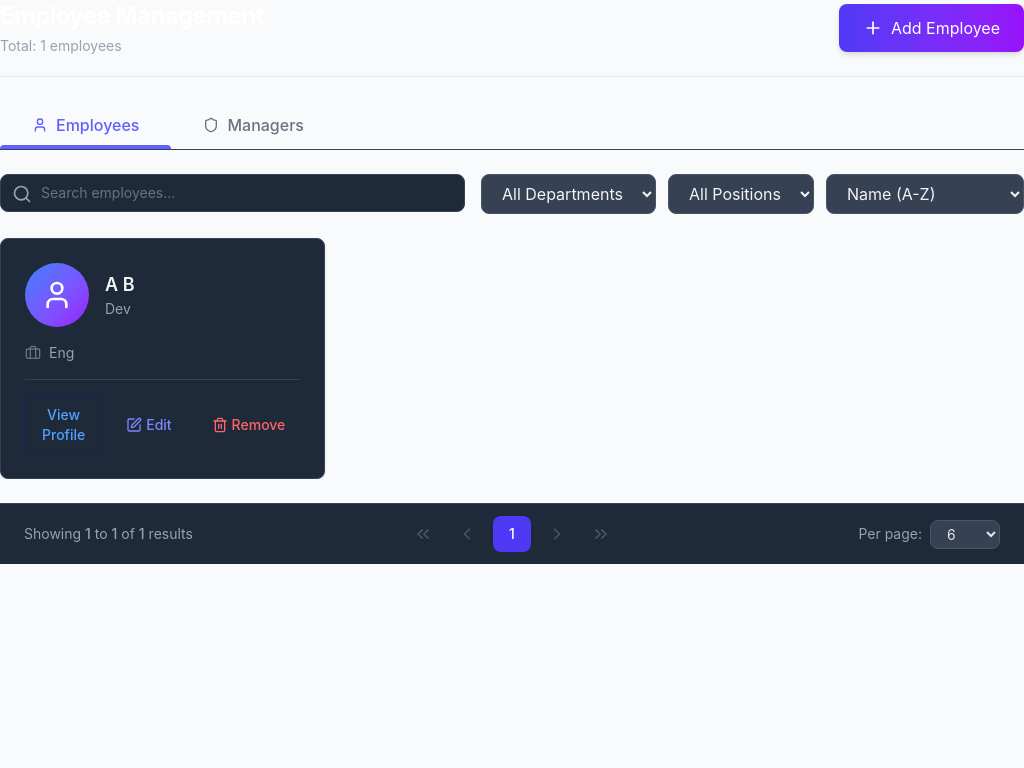
Scenario: EmployeesPage dedicated › creates employee through no-skills branch and shows success modal
Click the button "Add Employee" at (931, 28), box [839,4,1023,52]
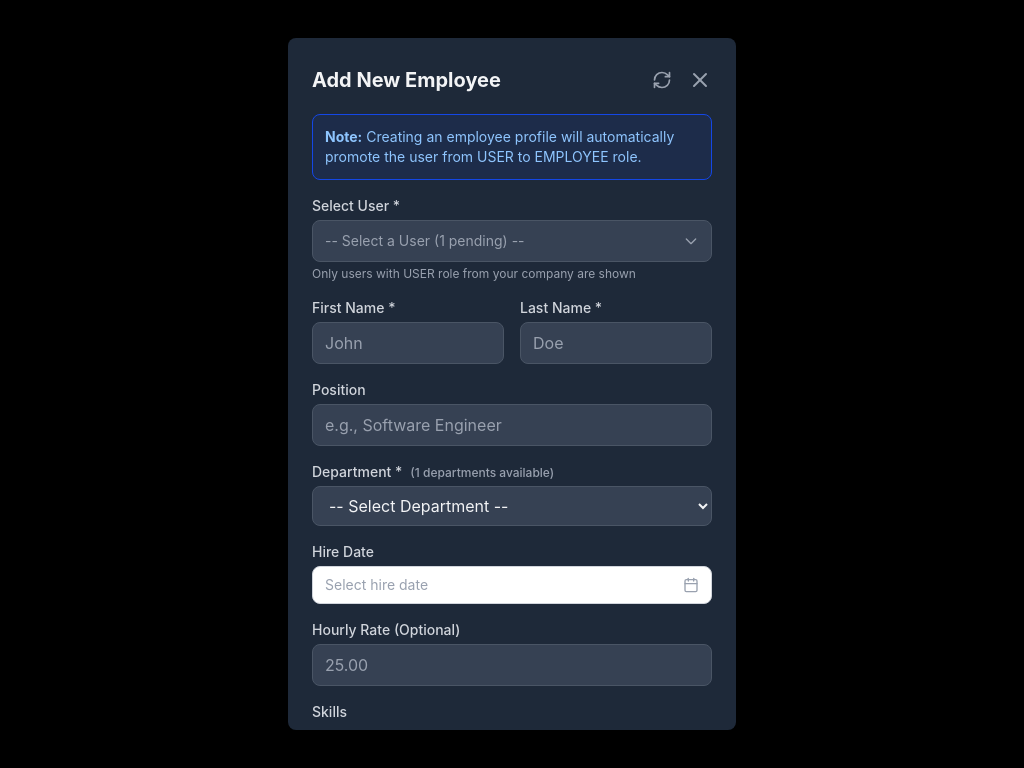
Note: Click the custom user dropdown trigger and select the user option
Click the button "-- Select a User (1 pending) --" at (512, 241), box [312,220,712,262]
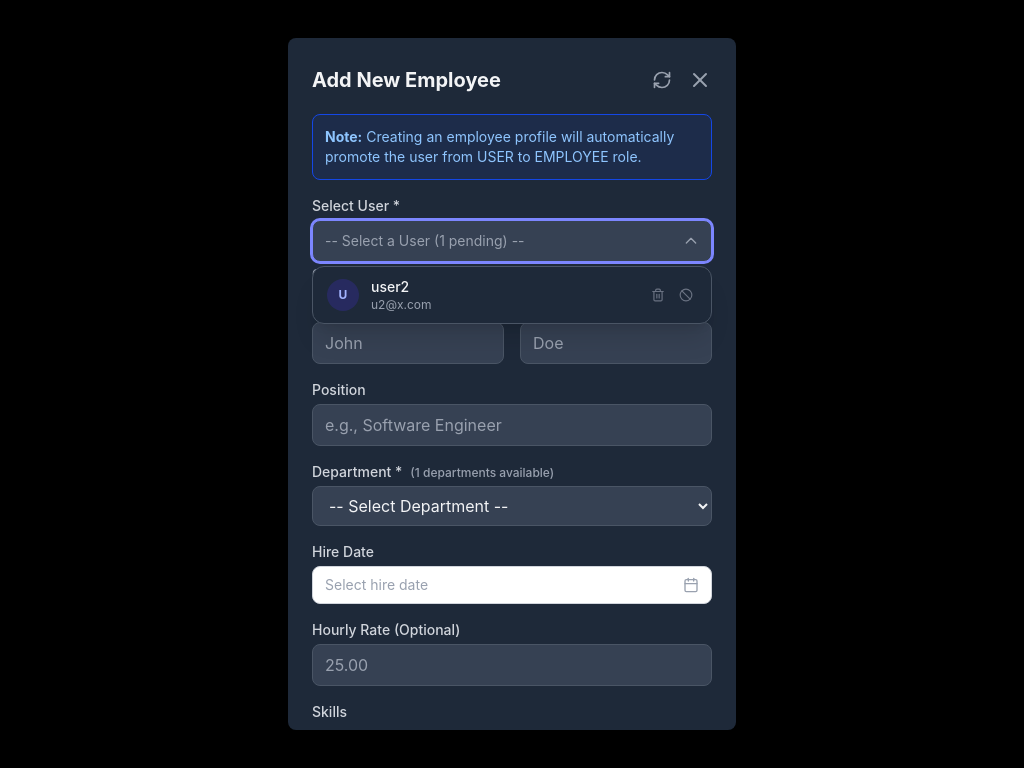
Click the text "user2" at (390, 287), box [371,278,409,295]
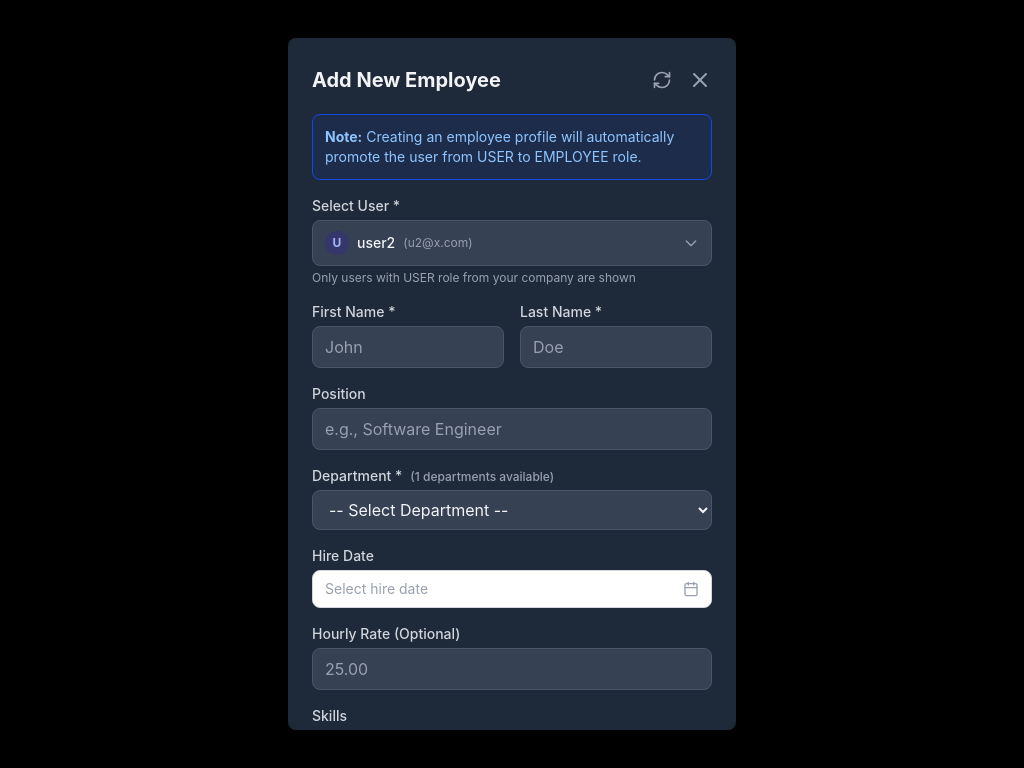
Type "No" into the field with placeholder "John" at (408, 347), box [312,326,504,368]
Type "Skill" into the field with placeholder "Doe" at (616, 347), box [520,326,712,368]
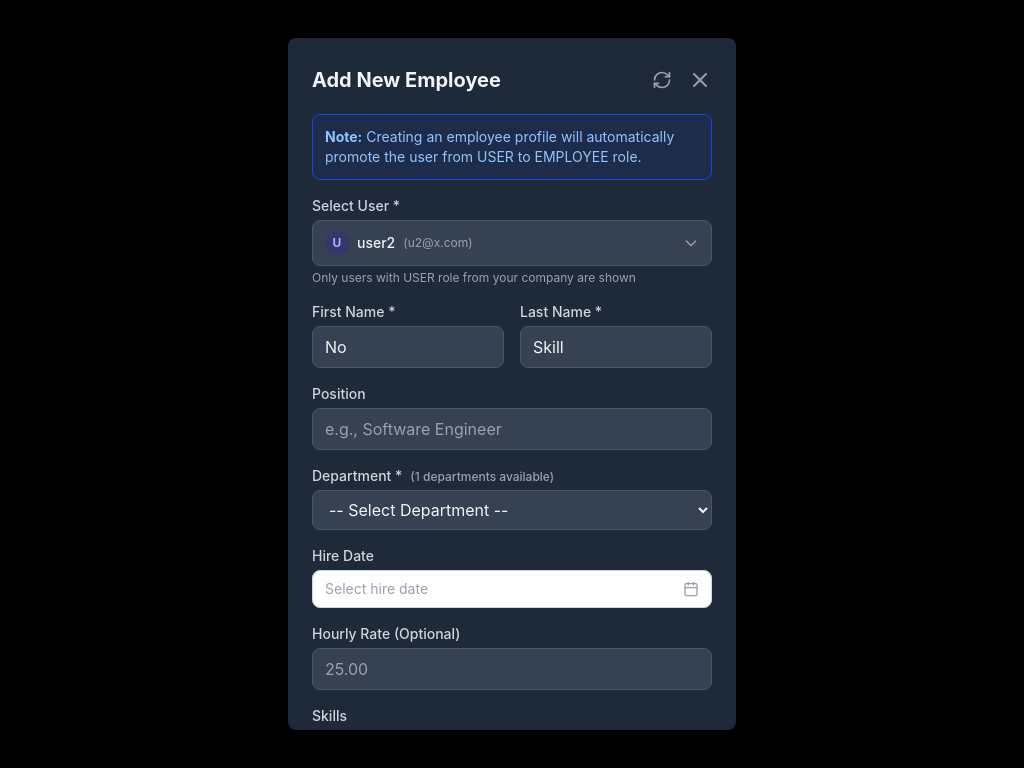
Select "Eng" in the dropdown at (512, 510), box [312,490,712,530]
(page scrolled)
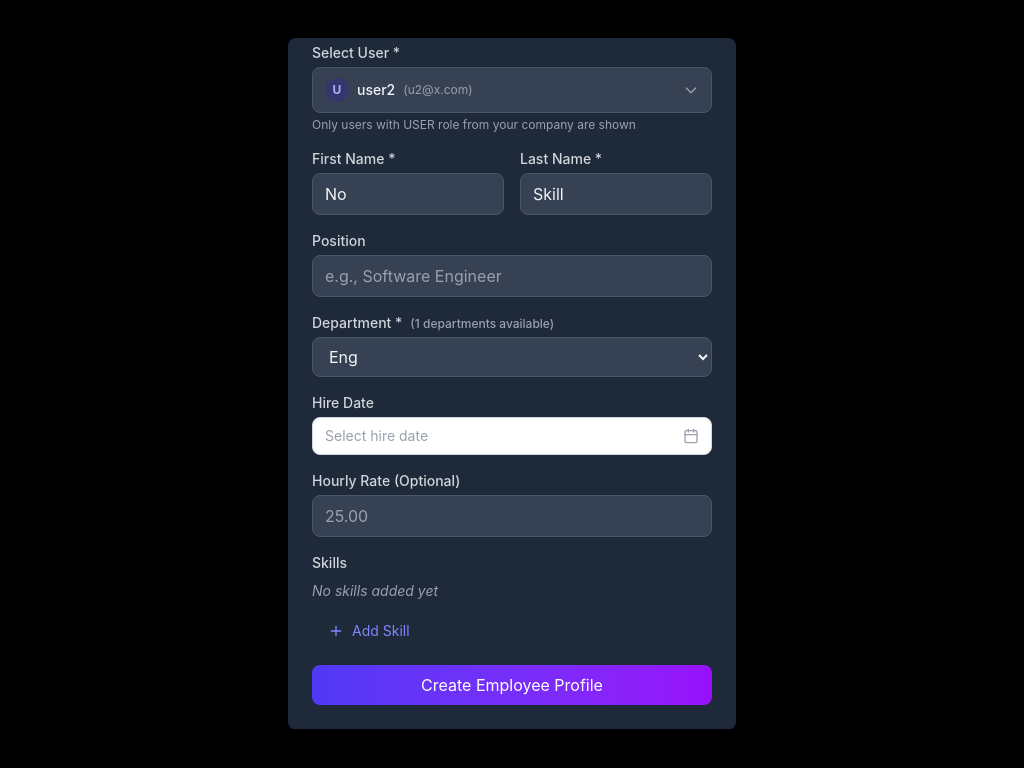
Click the button "Create Employee Profile" at (512, 685), box [312,665,712,705]
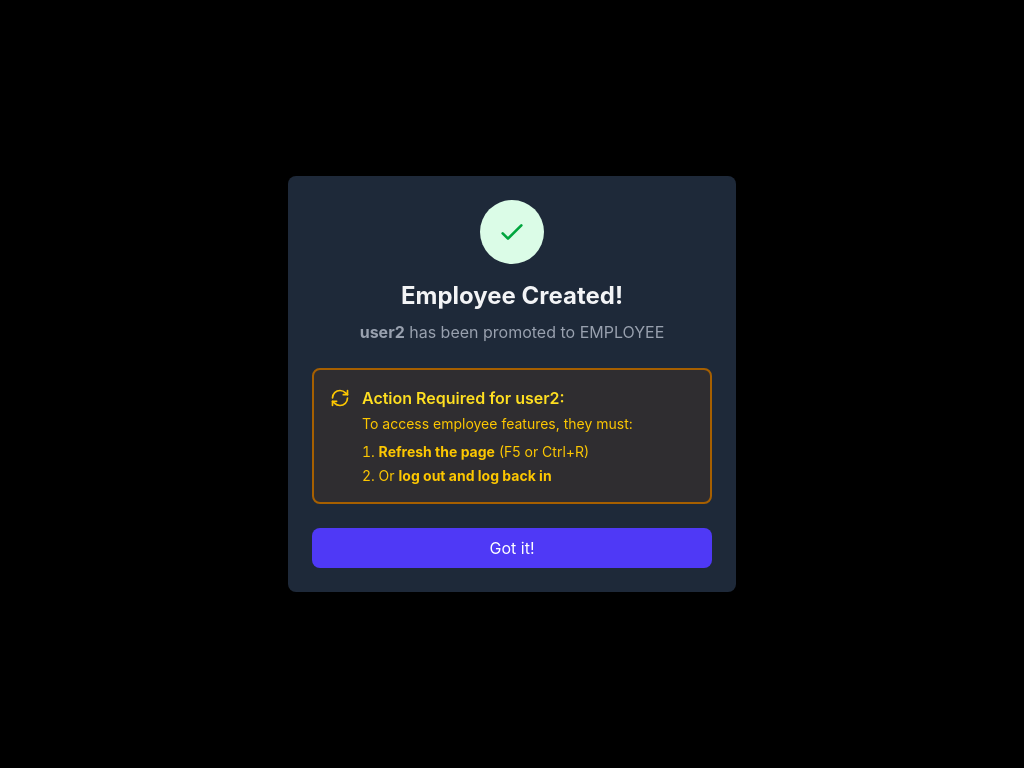
Expected: the heading "Employee Created!" is shown, [401,281,623,310]
